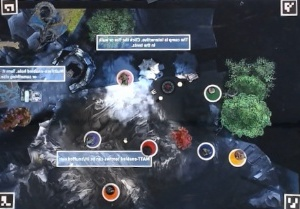blue: (196, 140, 217, 160)
green: (203, 83, 225, 104)
orange: (98, 179, 121, 201)
pink: (114, 68, 134, 86)
red: (140, 136, 161, 159)
violet: (81, 129, 106, 150)
yellow: (229, 146, 249, 167)
